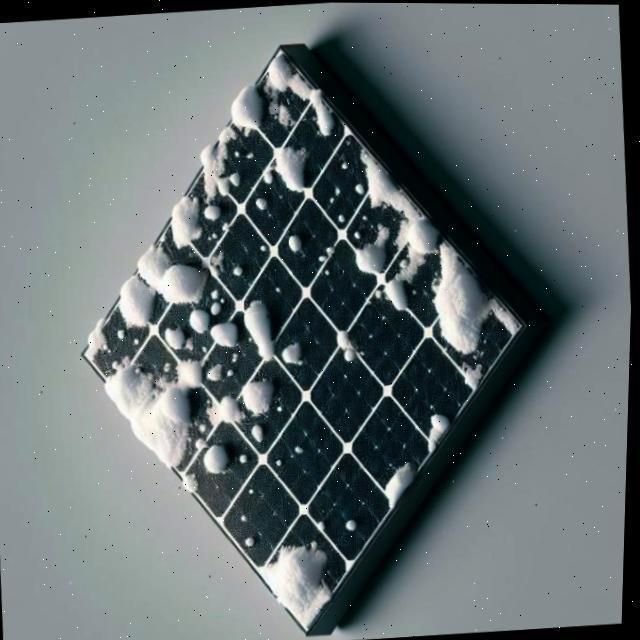Anomaly Solar Panel: (7, 47, 582, 633)
Snow: (389, 234, 534, 392), (358, 136, 449, 311), (89, 342, 209, 469), (107, 237, 218, 351), (241, 51, 345, 155), (255, 526, 357, 630), (180, 123, 265, 228), (351, 218, 399, 278), (240, 298, 278, 364), (261, 144, 306, 192), (378, 459, 420, 510), (230, 82, 264, 137), (84, 319, 123, 366), (201, 392, 246, 430), (170, 195, 201, 248), (160, 321, 199, 358), (419, 411, 452, 452), (200, 441, 237, 477), (243, 378, 277, 416), (333, 328, 362, 366), (280, 342, 307, 368), (189, 307, 212, 336), (206, 360, 234, 382), (182, 471, 203, 495), (251, 423, 270, 444), (285, 232, 303, 254)
